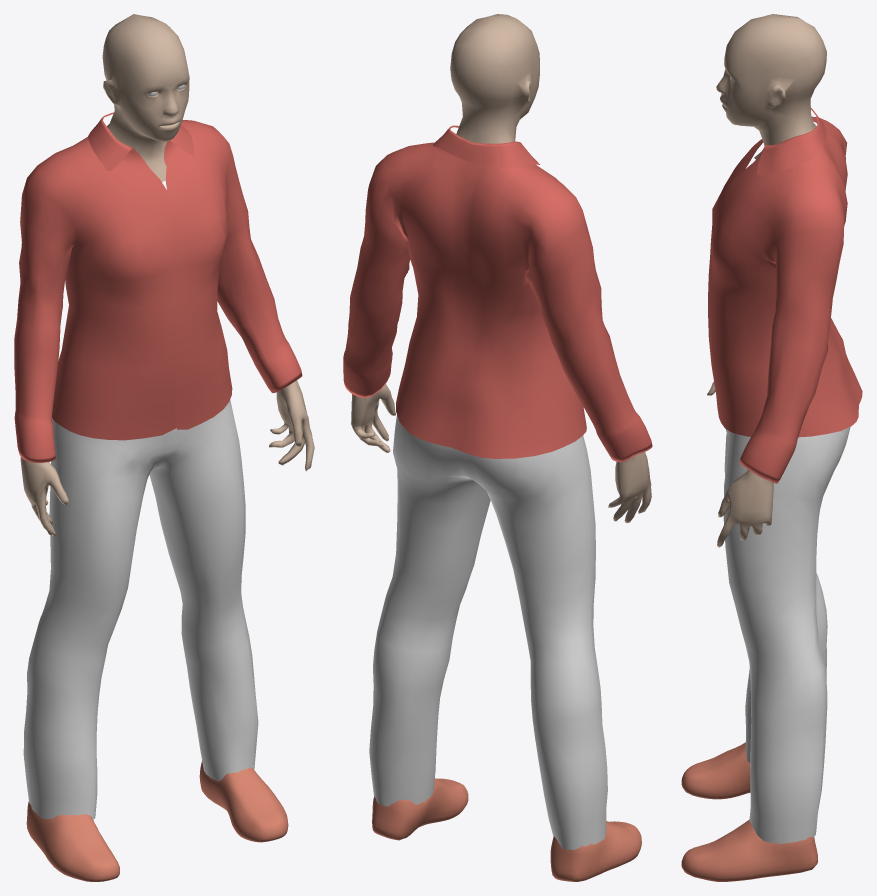
File: man.glb
3 views of the same model, side by side, from view 1: azimuth 30°, elevation 25°; view 2: azimuth 150°, elevation 25°; view 3: azimuth 270°, elevation 25° (orthographic). The views are drawn at different scales.
Parts seen in each view (by area): view 1: memory_palace_human-male_casualsuit03.001, memory_palace_human-male_casualsuit03, memory_palace_human-female1605, memory_palace_human-shoes05; view 2: memory_palace_human-male_casualsuit03.001, memory_palace_human-male_casualsuit03, memory_palace_human-female1605, memory_palace_human-shoes05; view 3: memory_palace_human-male_casualsuit03.001, memory_palace_human-male_casualsuit03, memory_palace_human-female1605, memory_palace_human-shoes05.
Part boxes in pixels (x1,y1,x2,y2): memory_palace_human-male_casualsuit03.001: (14, 112, 302, 462); memory_palace_human-male_casualsuit03: (23, 400, 258, 819); memory_palace_human-female1605: (20, 14, 314, 536); memory_palace_human-shoes05: (26, 761, 288, 881); memory_palace_human-male_casualsuit03.001: (343, 125, 652, 462); memory_palace_human-male_casualsuit03: (369, 415, 607, 849); memory_palace_human-female1605: (351, 14, 651, 522); memory_palace_human-shoes05: (372, 778, 641, 881); memory_palace_human-male_casualsuit03.001: (708, 108, 862, 483); memory_palace_human-male_casualsuit03: (723, 427, 850, 843); memory_palace_human-female1605: (707, 14, 826, 547); memory_palace_human-shoes05: (681, 742, 817, 881).
Bounding box in the file's own units: 0.6171 × 1.67 × 0.3369.
